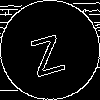Z: (25, 25, 67, 77)
